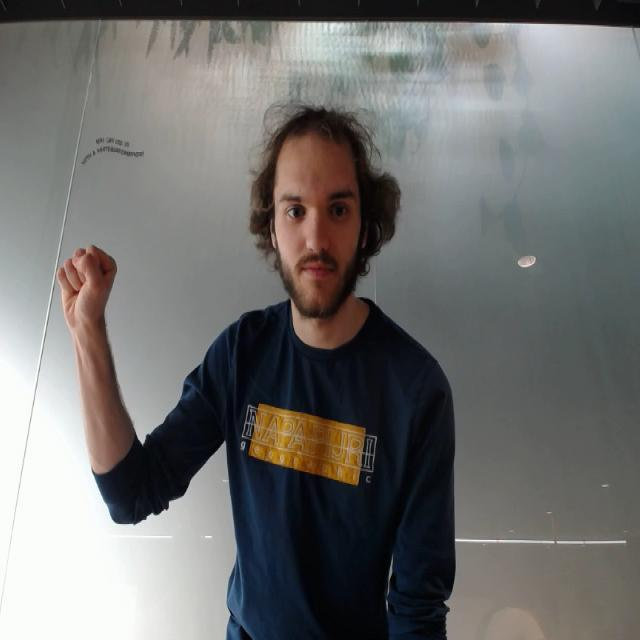stop: (53, 244, 118, 320)
